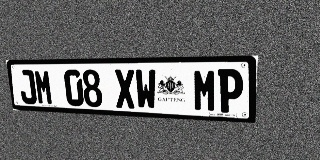0: (63, 70, 84, 106)
8: (82, 69, 103, 107)
J: (18, 70, 37, 104)
M: (193, 69, 217, 112), (34, 70, 54, 105)
P: (218, 69, 244, 113)
W: (135, 69, 157, 110)
X: (114, 69, 136, 109)
